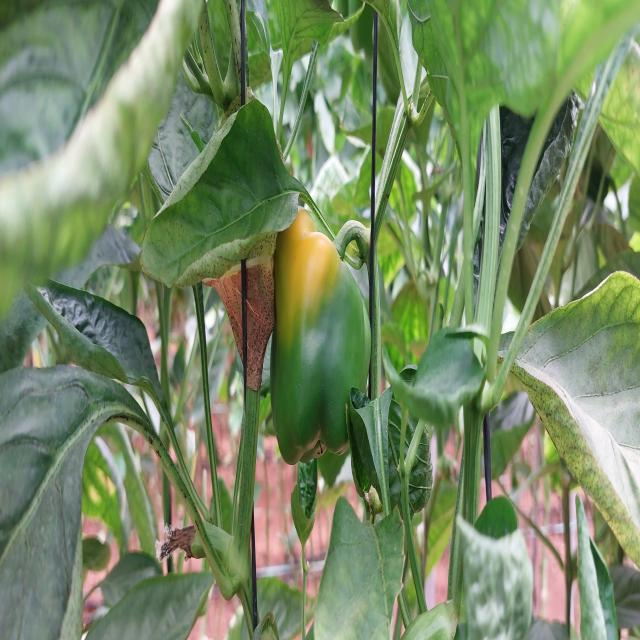GreenishYellow--Can-be-Harvested: (261, 207, 383, 487)
